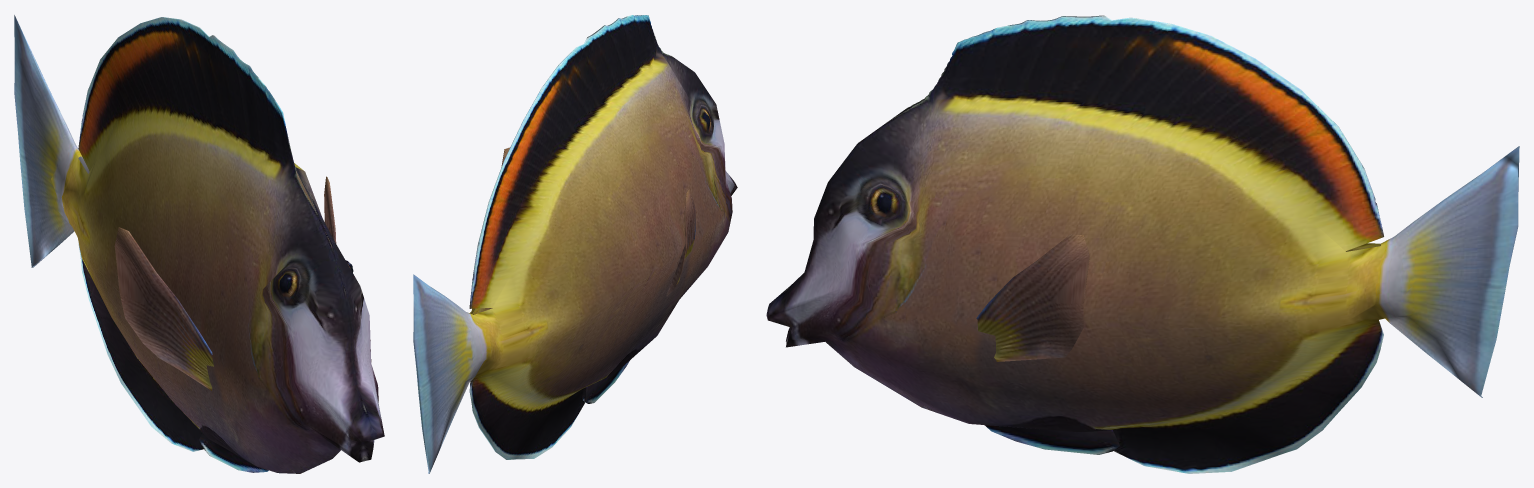
Rendered from BrownTank.dae.
The picture shows the model from 3 angles, left to right: view 1: azimuth 30°, elevation 25°; view 2: azimuth 150°, elevation 25°; view 3: azimuth 270°, elevation 25°; orthographic projection. The views are drawn at different scales.
Visible parts, largest first — view 1: Cube; view 2: Cube; view 3: Cube.
Boxes of the visible parts, <box> form: Cube: <box>14,15,384,473</box>; Cube: <box>413,15,737,473</box>; Cube: <box>766,15,1519,473</box>.
Bounding box in the file's own units: 3.15 × 9.33 × 6.28.
Materials: 1 (1 with a texture image).
